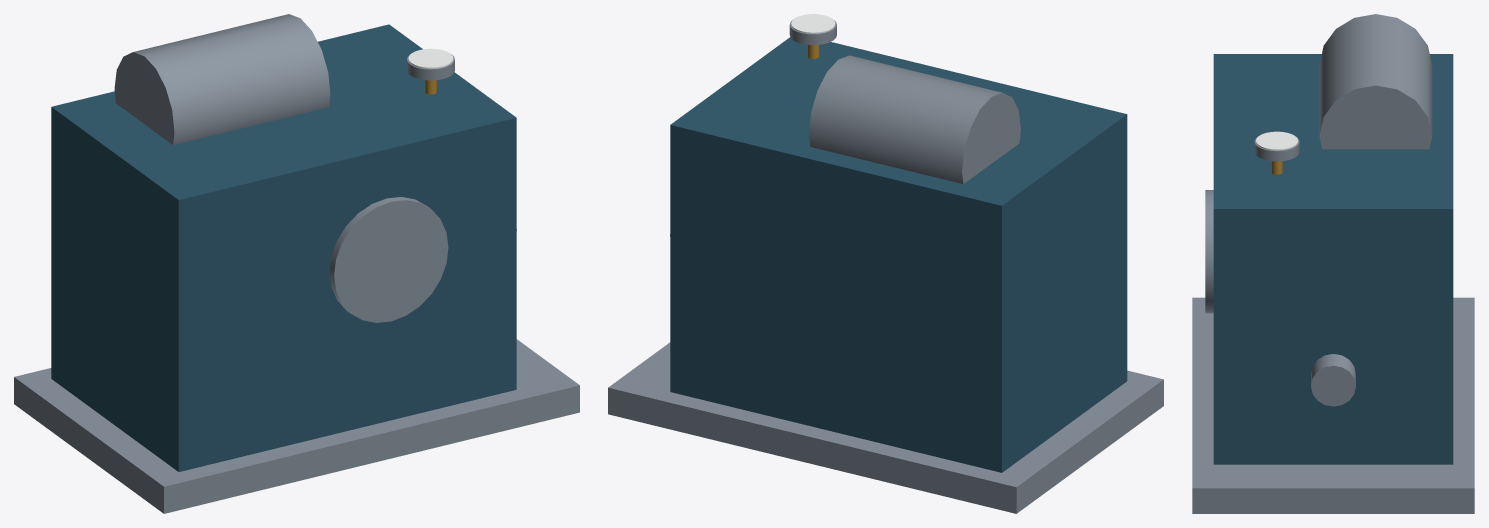
Rendered from compressor.glb.
The picture shows the model from 3 angles, left to right: view 1: azimuth 30°, elevation 25°; view 2: azimuth 150°, elevation 25°; view 3: azimuth 270°, elevation 25°; orthographic projection. The views are drawn at different scales.
Visible parts, largest first — view 1: object 2, object 1, object 3, object 4, gauge; view 2: object 2, object 1, object 3, gauge; view 3: object 2, object 1, object 3, object 7, gauge, object 4.
Part boxes in pixels (<box>): object 2: <box>51,24,516,471</box>; object 1: <box>14,339,579,513</box>; object 3: <box>114,14,330,144</box>; object 4: <box>329,197,448,322</box>; gauge: <box>407,48,454,94</box>; object 2: <box>670,37,1127,472</box>; object 1: <box>608,342,1163,513</box>; object 3: <box>809,55,1020,184</box>; gauge: <box>789,14,836,58</box>; object 2: <box>1213,54,1453,464</box>; object 1: <box>1192,297,1474,513</box>; object 3: <box>1319,14,1432,149</box>; object 7: <box>1311,354,1355,406</box>; gauge: <box>1254,131,1299,174</box>; object 4: <box>1205,190,1213,313</box>.
Bounding box in the file's own units: 1.6 × 1.35 × 1.
